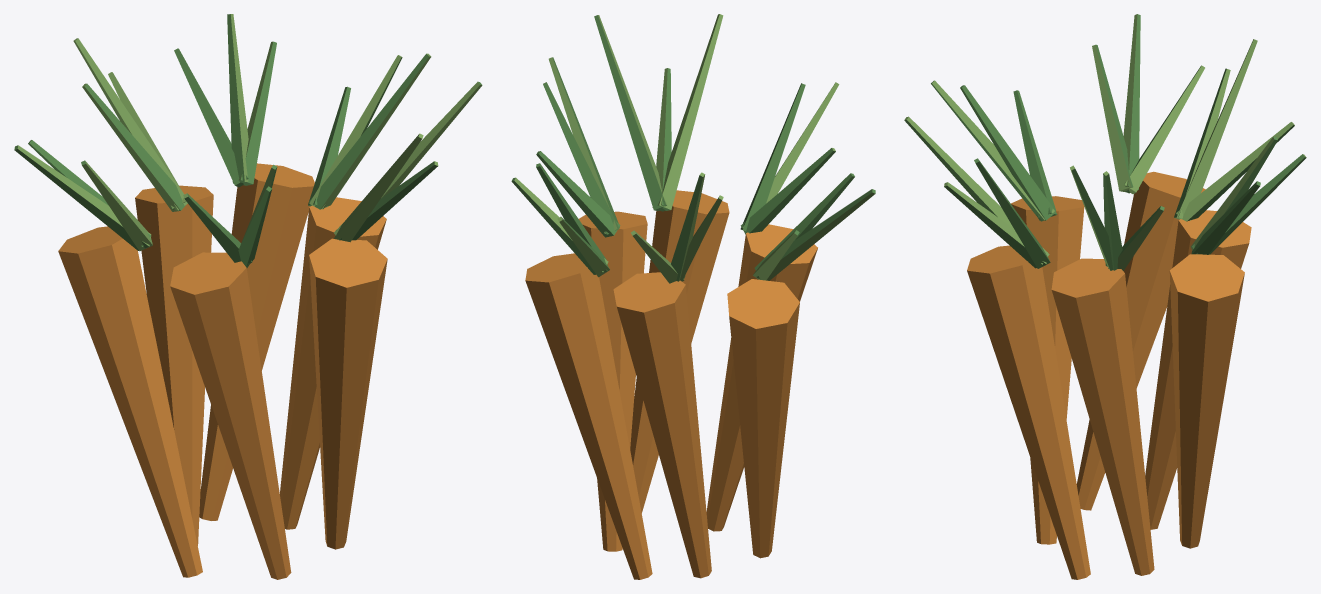
File: carrot_bunch.glb
3 renders of one model, left to right at view 1: azimuth 30°, elevation 25°; view 2: azimuth 150°, elevation 25°; view 3: azimuth 270°, elevation 25°, orthographic. The views are drawn at different scales.
Parts seen in each view (by area): view 1: carrot_bunch; view 2: carrot_bunch; view 3: carrot_bunch.
Boxes of the visible parts, x1,y1,x2,y2 form: carrot_bunch: [14, 14, 482, 579]; carrot_bunch: [511, 14, 875, 579]; carrot_bunch: [904, 14, 1306, 579].
Bounding box in the file's own units: 0.2083 × 0.2507 × 0.1978.
